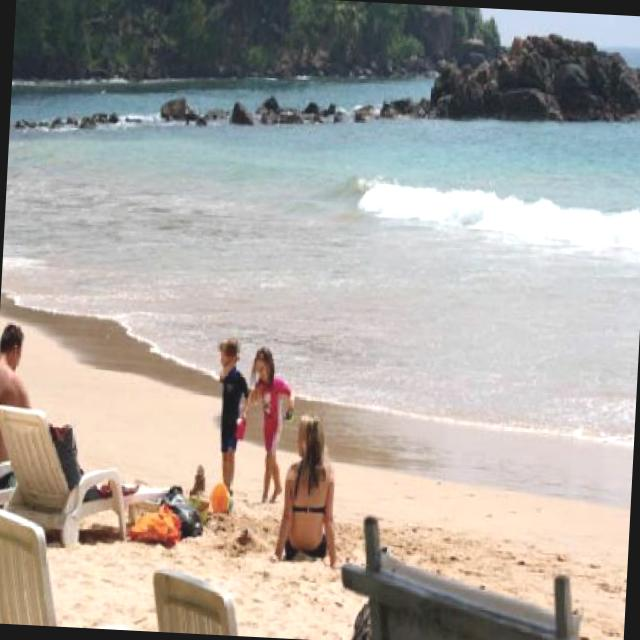Person: (269, 414, 348, 568), (240, 348, 300, 512), (209, 341, 252, 494), (0, 321, 34, 469)
